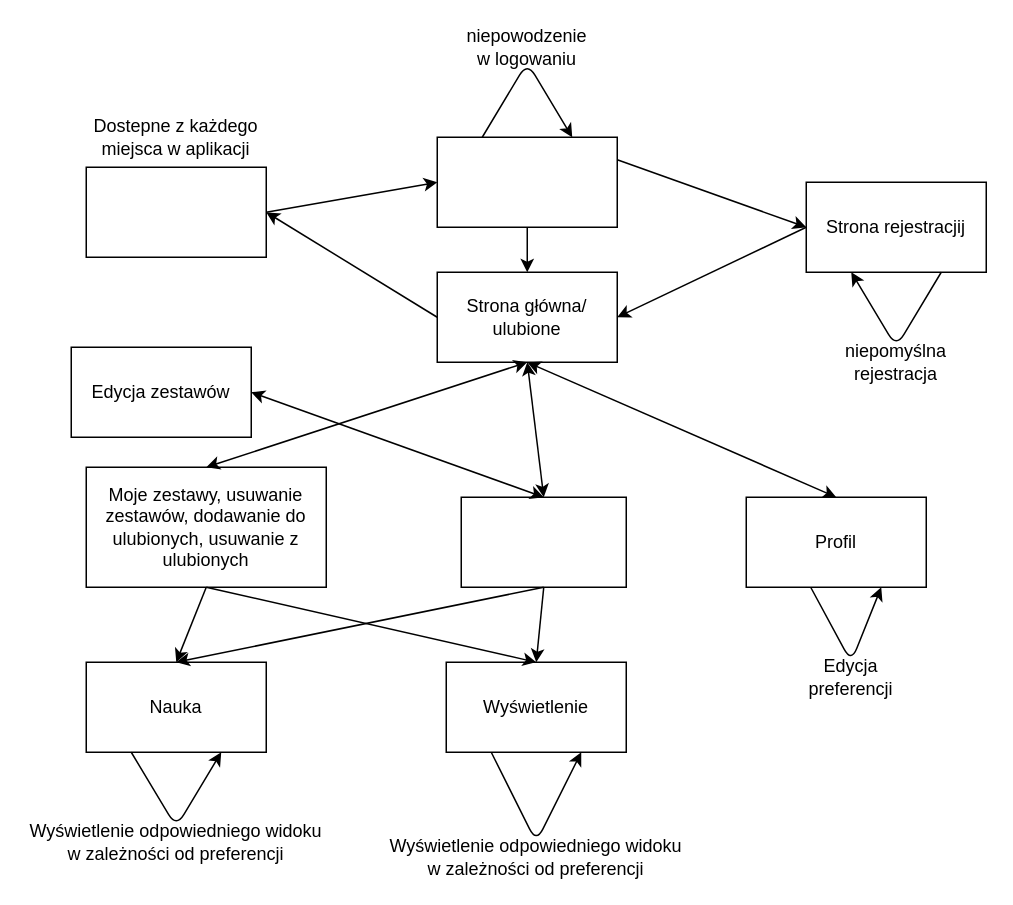
Some shapes in this 1013 by 905 pixel diagram are drawn without their labels. Here are the shapes that lost their labels. From the top down, the centre of each, then its label:
the point at 526,181: Zaloguj lub zarejestruj
the point at 175,211: Wyloguj
the point at 543,541: Przeglądanie
